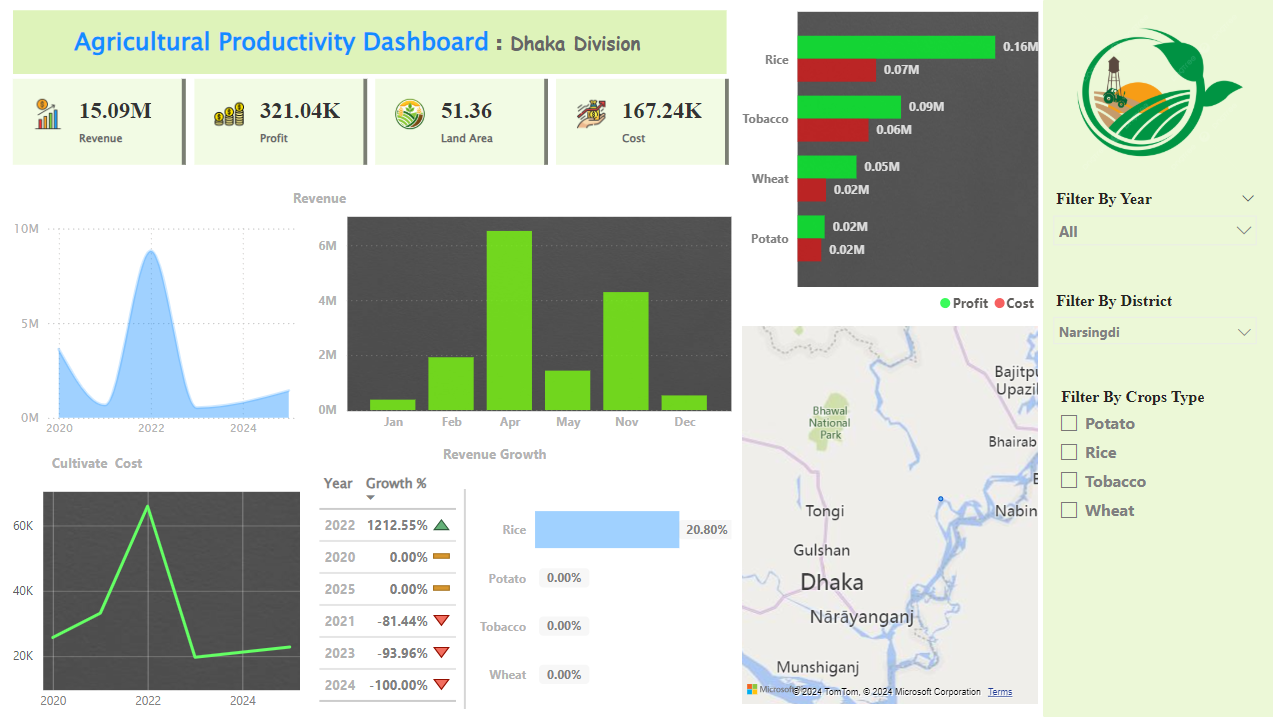

This screenshot's page, from the dashboard's own definition file:
{"tool":"powerbi","page":{"name":"Page 1","canvas":[1280,720],"ordinal":0},"visuals":[{"type":"cardVisual","fields":{"Data":["Sheet1.Revenue","Sheet1.Total Profit","Sheet1.Total Land Area","Sheet1.Total Cost"]},"box":[10,75,728.8,96.2],"z":0},{"type":"lineChart","fields":{"Y":["Sheet1.Revenue"],"Category":["Calendar.Date.Variation.Date Hierarchy.Year"]},"box":[10,213.8,300,236.2],"z":1000},{"type":"shape","box":[1045,0,233.3,720],"z":2000},{"type":"slicer","fields":{"Values":["Sheet1.Cultivate Area"]},"box":[1044.9,287.4,223.9,72.1],"z":3000},{"type":"slicer","fields":{"Values":["Calendar.Year"]},"box":[1044.9,186.6,223.9,93.3],"z":4000},{"type":"slicer","fields":{"Values":["Sheet1.Crops Type"]},"box":[1049.9,383.1,214,195.3],"z":5000},{"type":"image","box":[1044.9,0,233.9,186.6],"z":6000},{"type":"lineChart","fields":{"Y":["Sheet1.Total Cost"],"Category":["Calendar.Date.Variation.Date Hierarchy.Year"]},"box":[10,480,300,240],"z":7000},{"type":"columnChart","title":"Revenue by Month","fields":{"Y":["Sheet1.Revenue"],"Category":["Calendar.Month"]},"box":[315,205,423.8,236.2],"z":8000},{"type":"tableEx","fields":{"Values":["Calendar.Date.Variation.Date Hierarchy.Year","Sheet1.Revenue Growth"]},"box":[315,463.8,152.5,246.2],"z":9000},{"type":"barChart","fields":{"Category":["Sheet1.Crops Type"],"Y":["Sheet1.Revenue Growth"]},"box":[476.2,480,262.5,240],"z":10000},{"type":"textbox","box":[48.5,450.3,160.5,29.9],"z":11000},{"type":"textbox","box":[290,185,76.2,40],"z":12000},{"type":"shape","box":[415,490,103.8,220],"z":13000},{"type":"textbox","box":[440.4,441.6,130.6,38.6],"z":14000},{"type":"shape","box":[15,11.2,713.8,63.8],"z":15000},{"type":"textbox","box":[71.2,20,631.2,55],"z":16000},{"type":"map","fields":{"Category":["Sheet1.District"],"Size":["Sheet1.Revenue"]},"box":[738.6,322.9,305.7,387.1],"z":17000},{"type":"clusteredBarChart","fields":{"Category":["Sheet1.Crops Type"],"Y":["Sheet1.Total Profit","Sheet1.Total Cost"]},"box":[738.6,0,307.1,322.9],"z":17001}]}

Visuals, with their boxes in screenshot pixels (x1, y1, x2, y2), scaled from the page's 1280x720 canvas onto the 1273x717 screenshot:
cardVisual - Sheet1.Revenue x Sheet1.Total Profit: 10, 75, 735, 170
lineChart - Sheet1.Revenue x Calendar.Date.Variation.Date Hierarchy.Year: 10, 213, 308, 448
shape: 1039, 0, 1271, 716
slicer - Sheet1.Cultivate Area: 1039, 286, 1262, 358
slicer - Calendar.Year: 1039, 186, 1262, 279
slicer - Sheet1.Crops Type: 1044, 382, 1257, 576
image: 1039, 0, 1272, 186
lineChart - Sheet1.Total Cost x Calendar.Date.Variation.Date Hierarchy.Year: 10, 478, 308, 716
"Revenue by Month" columnChart: 313, 204, 735, 439
tableEx - Calendar.Date.Variation.Date Hierarchy.Year x Sheet1.Revenue Growth: 313, 462, 465, 707
barChart - Sheet1.Crops Type x Sheet1.Revenue Growth: 474, 478, 735, 716
textbox: 48, 448, 208, 478
textbox: 288, 184, 364, 224
shape: 413, 488, 516, 707
textbox: 438, 440, 568, 478
shape: 15, 11, 725, 75
textbox: 71, 20, 699, 75
map - Sheet1.District x Sheet1.Revenue: 735, 322, 1039, 707
clusteredBarChart - Sheet1.Crops Type x Sheet1.Total Profit: 735, 0, 1040, 322
